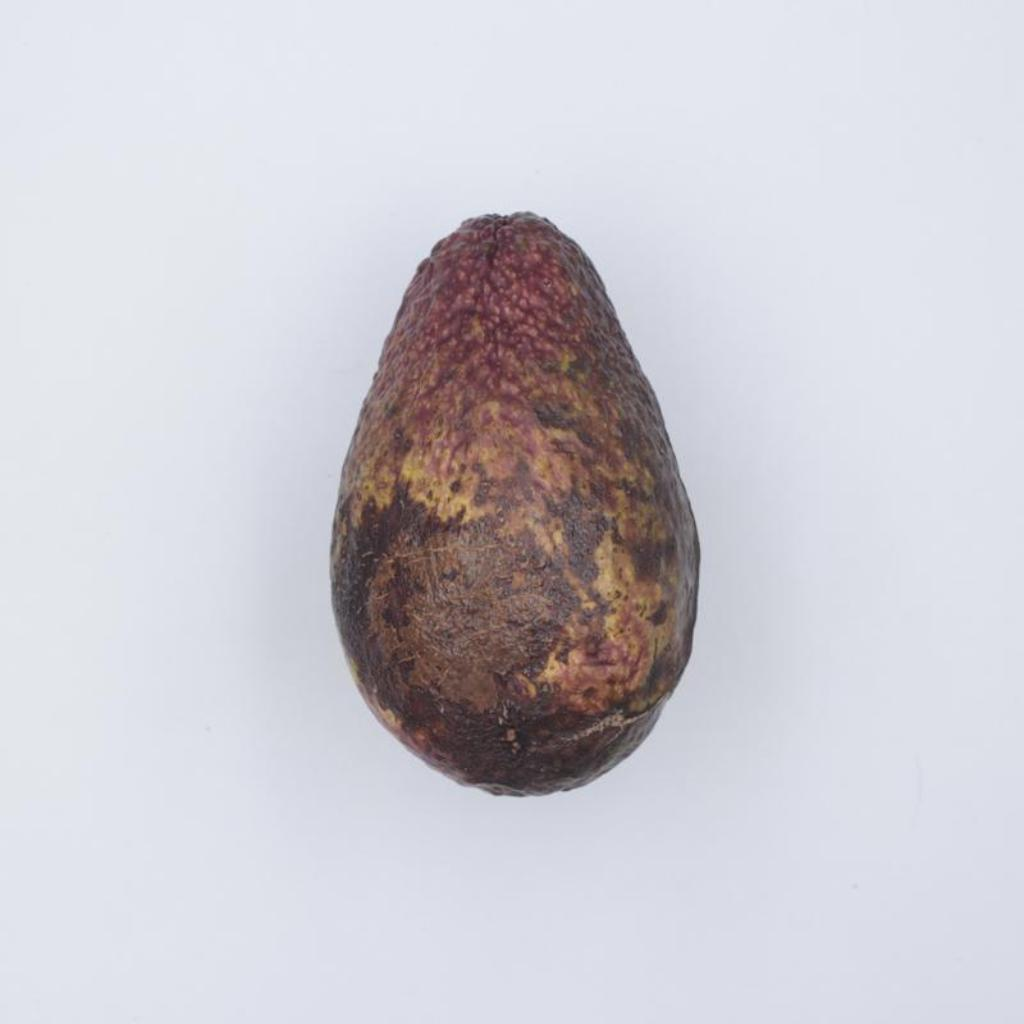scab: (332, 214, 698, 792)
